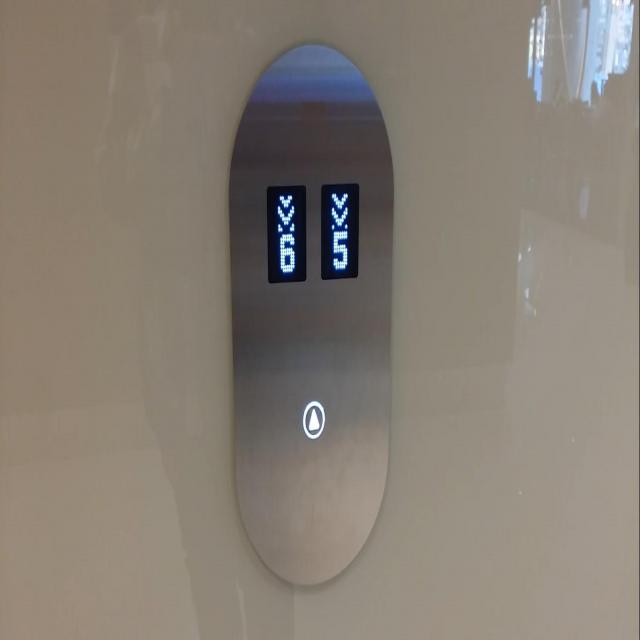led: (264, 181, 308, 286), (318, 176, 360, 282)
up: (300, 396, 326, 442)
